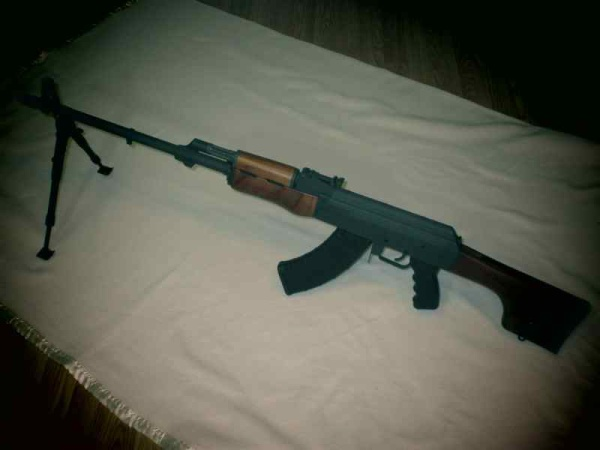ak47: (7, 66, 589, 358)
